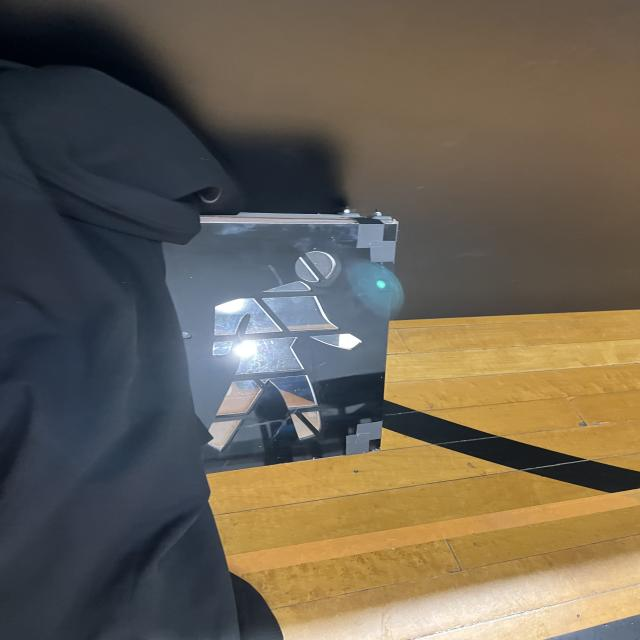go: (176, 224, 372, 448)
